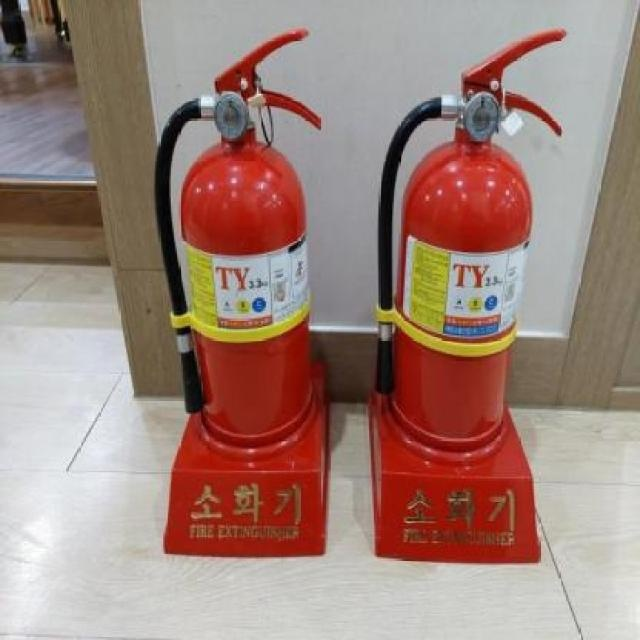fire extinguisher: (374, 29, 568, 453), (154, 28, 321, 446)
